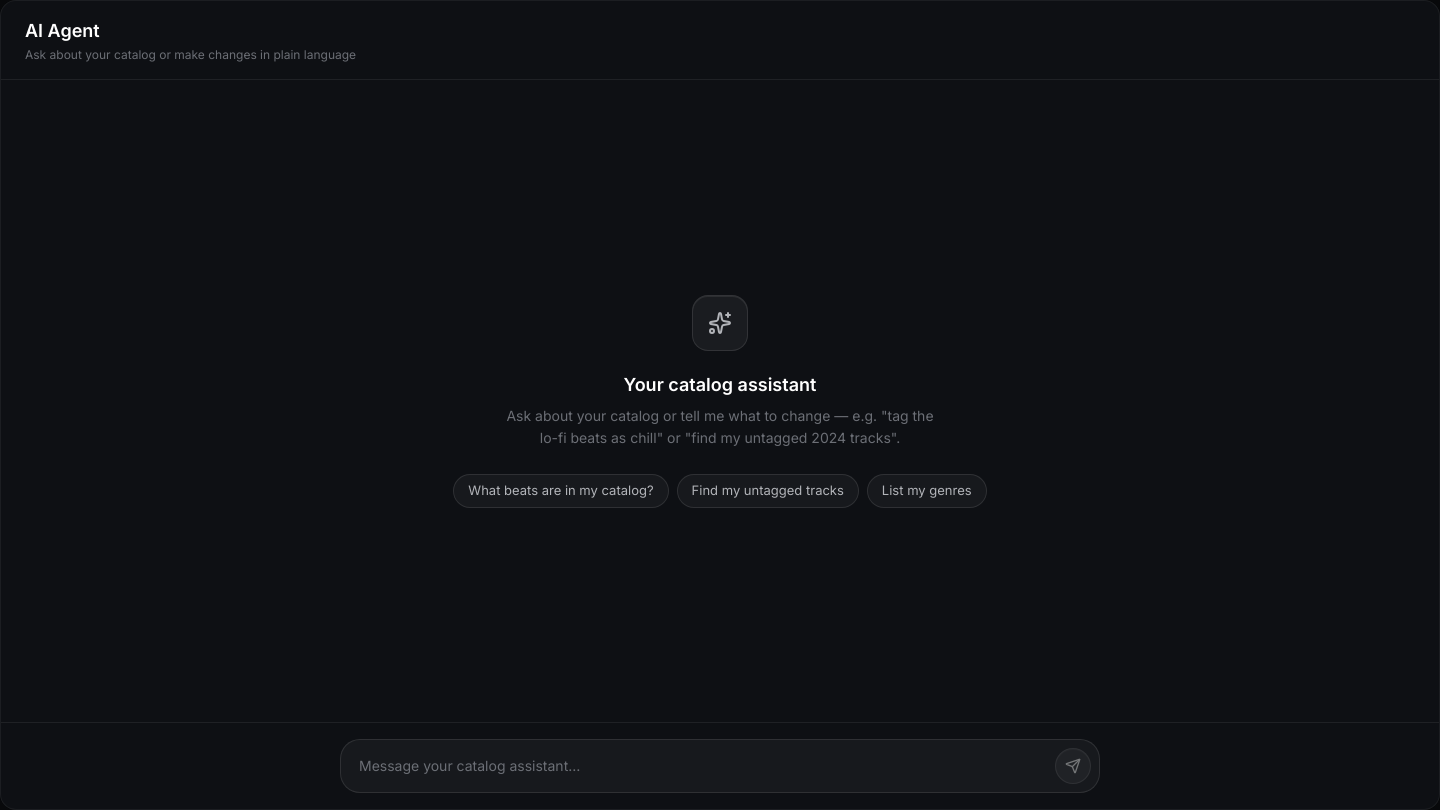
Test: ChatPanel › sends a message and renders the reply when AI is on
The width and height of the screenshot is (1440, 810).
Step 1. Type "find my beats" into the text box with placeholder "Message your catalog assistant…" → (698, 766), box x1=349 y1=749 x2=1047 y2=784
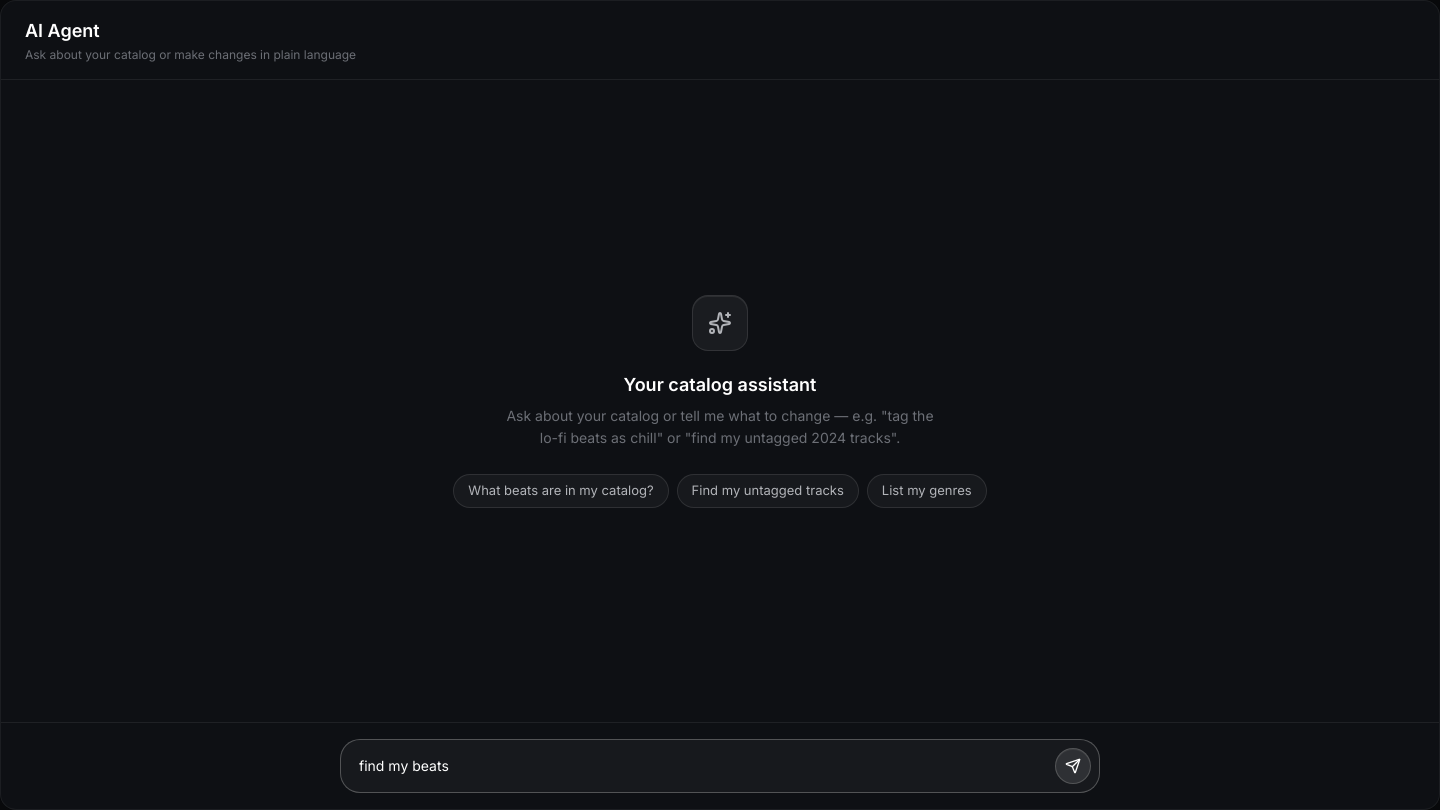
Step 2. Click the button named "Send" → (1073, 766), box x1=1055 y1=748 x2=1091 y2=784
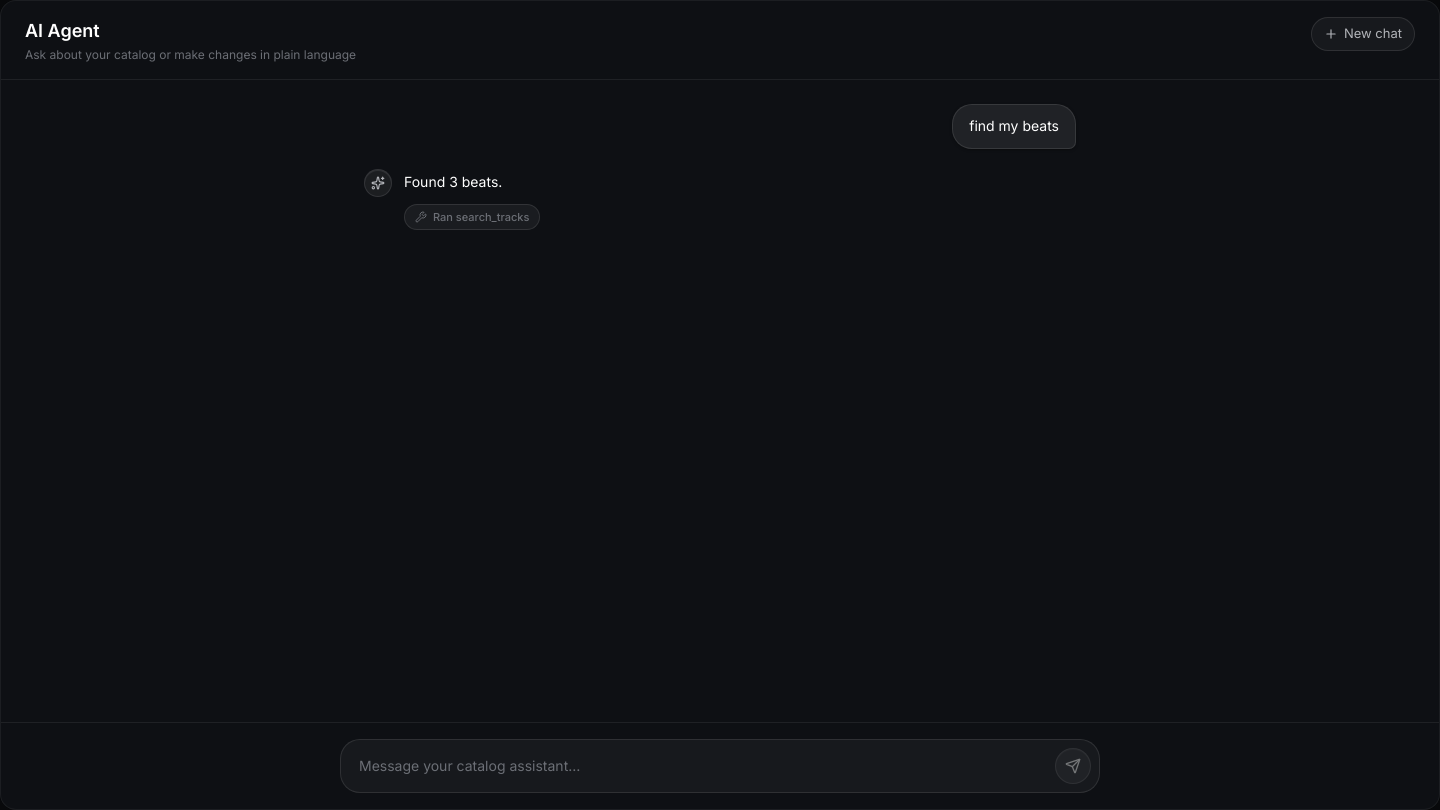
Check: the text "Found 3 beats." is shown, box x1=404 y1=173 x2=502 y2=190
Check: the text "find my beats" is shown, box x1=969 y1=115 x2=1059 y2=138
